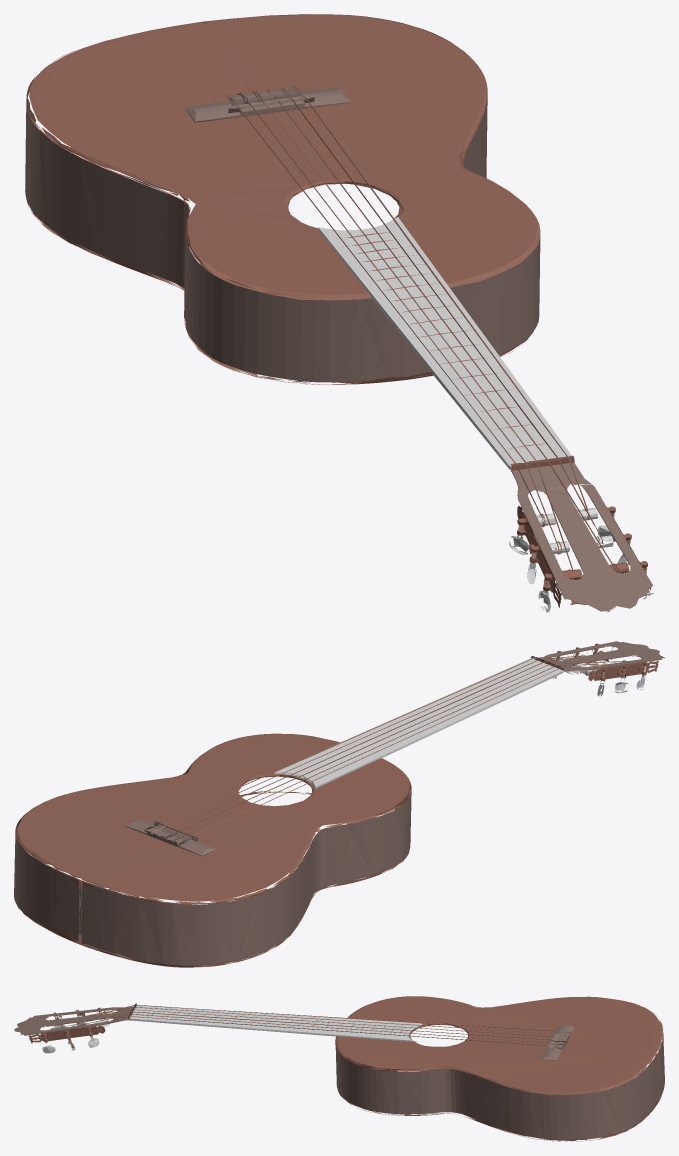
The model's file is cubo11.gltf.
3 views of the same model, one above another, from view 1: azimuth 30°, elevation 25°; view 2: azimuth 150°, elevation 25°; view 3: azimuth 270°, elevation 25° (orthographic). The views are drawn at different scales.
Visible parts, largest first — view 1: objdefault001; view 2: objdefault001; view 3: objdefault001.
Boxes of the visible parts, x1=… form: objdefault001: x1=25, y1=14, x2=653, y2=612; objdefault001: x1=14, y1=641, x2=664, y2=967; objdefault001: x1=14, y1=996, x2=664, y2=1141.
Bounding box in the file's own units: 0.2687 × 0.0637 × 0.7031.
